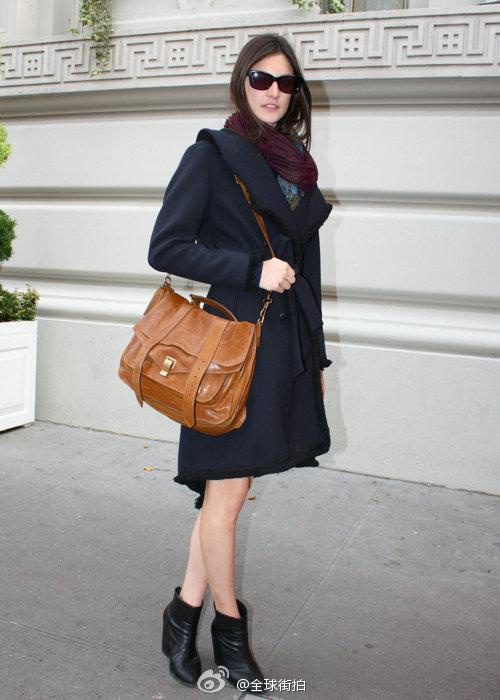handbag: (145, 63, 336, 498), (127, 250, 278, 457)
